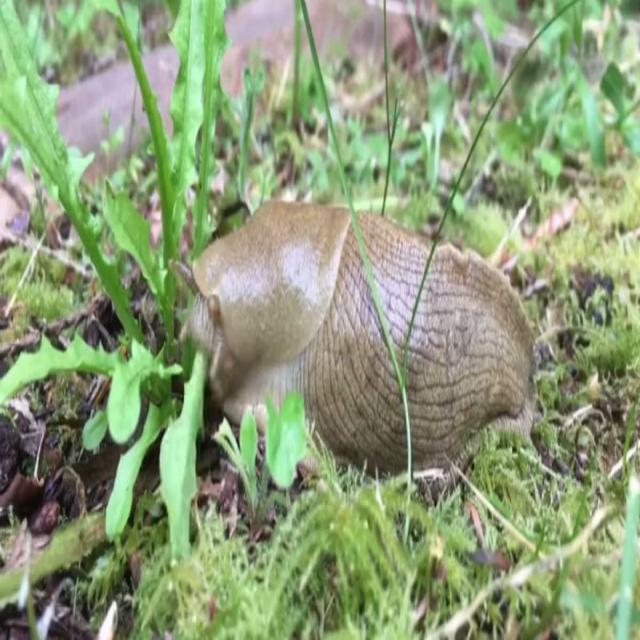slug: (154, 186, 539, 494)
